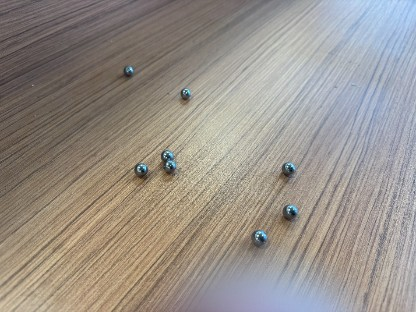ironball: (251, 230, 267, 246), (282, 204, 297, 219), (134, 162, 147, 176), (281, 162, 295, 175), (163, 160, 176, 172), (160, 150, 173, 161), (180, 88, 190, 99), (124, 65, 133, 76)
